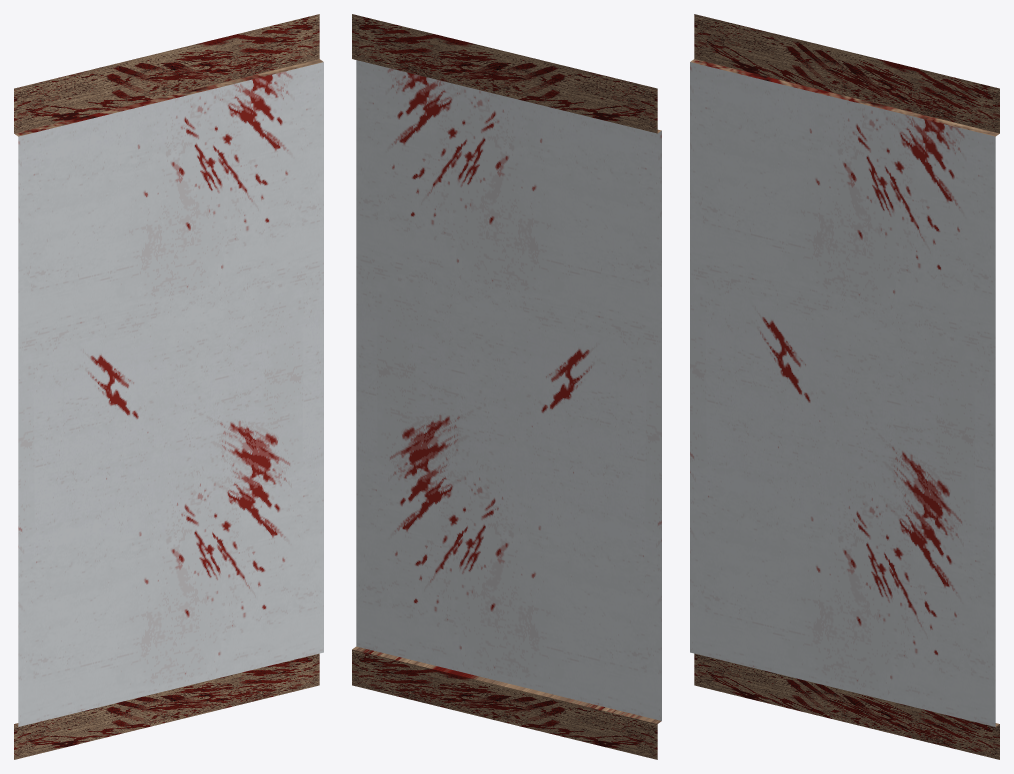
File: wall_bare.fbx
3 renders of one model, left to right at view 1: azimuth 30°, elevation 25°; view 2: azimuth 150°, elevation 25°; view 3: azimuth 330°, elevation 25°, orthographic.
Parts seen in each view (by area): view 1: wall_bare:Mesh; view 2: wall_bare:Mesh; view 3: wall_bare:Mesh.
Part boxes in pixels (left/top/right/bottom): wall_bare:Mesh: left=14, top=14, right=323, bottom=759; wall_bare:Mesh: left=352, top=14, right=661, bottom=759; wall_bare:Mesh: left=690, top=14, right=999, bottom=759.
Bounding box in the file's own units: 1 × 2.1 × 0.0234.
2 materials, 2 textured.
